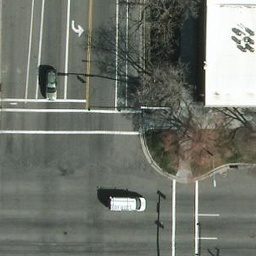car: (109, 196, 148, 213), (42, 67, 59, 100)
